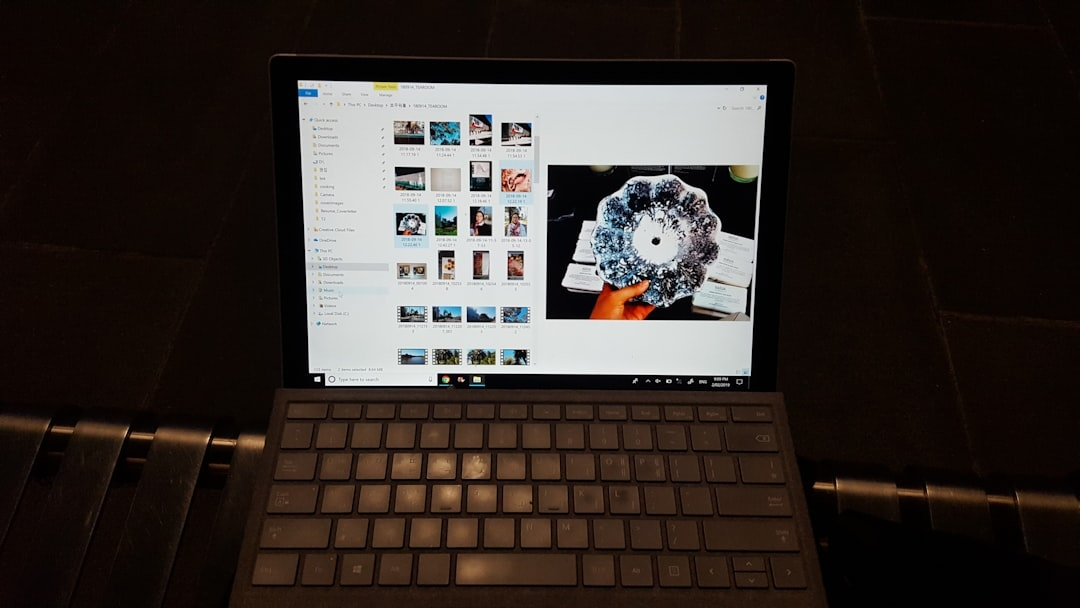laptop: (225, 34, 838, 608)
